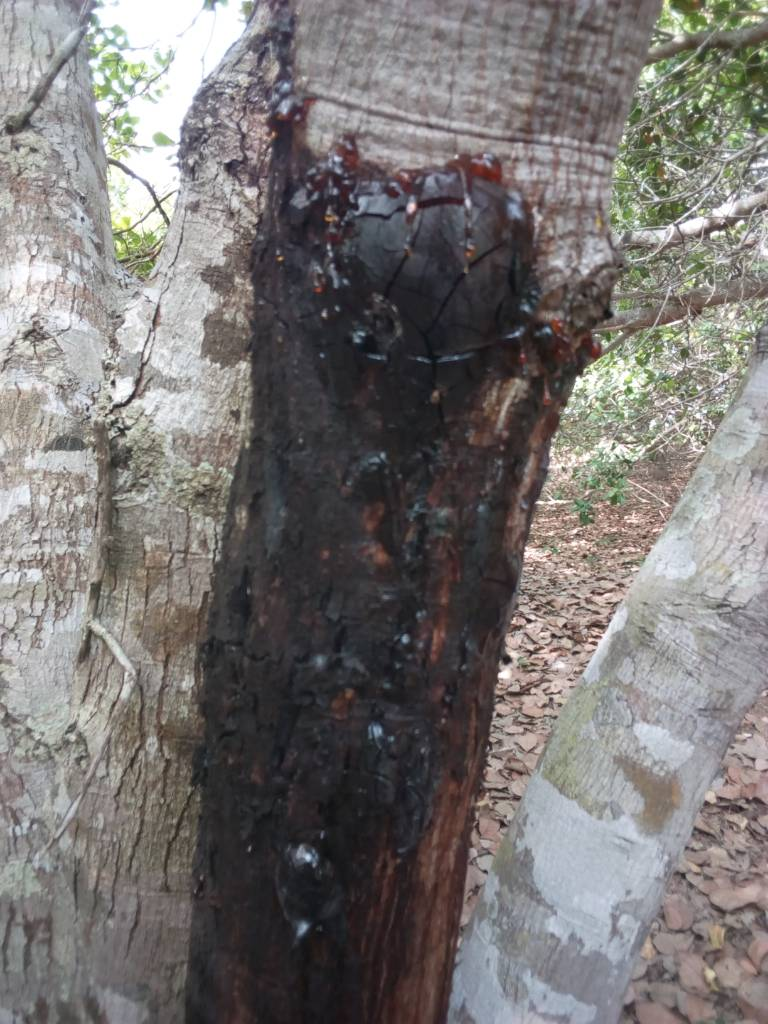Gommose: (202, 127, 565, 1024)
